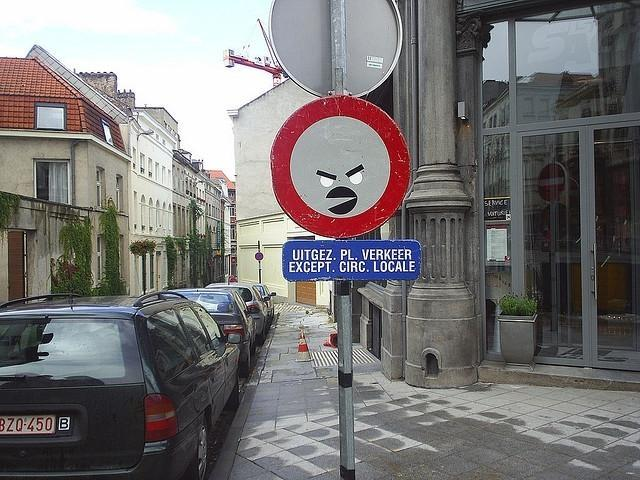car: (0, 290, 246, 474), (178, 288, 260, 369), (206, 282, 270, 347), (255, 284, 276, 317)
